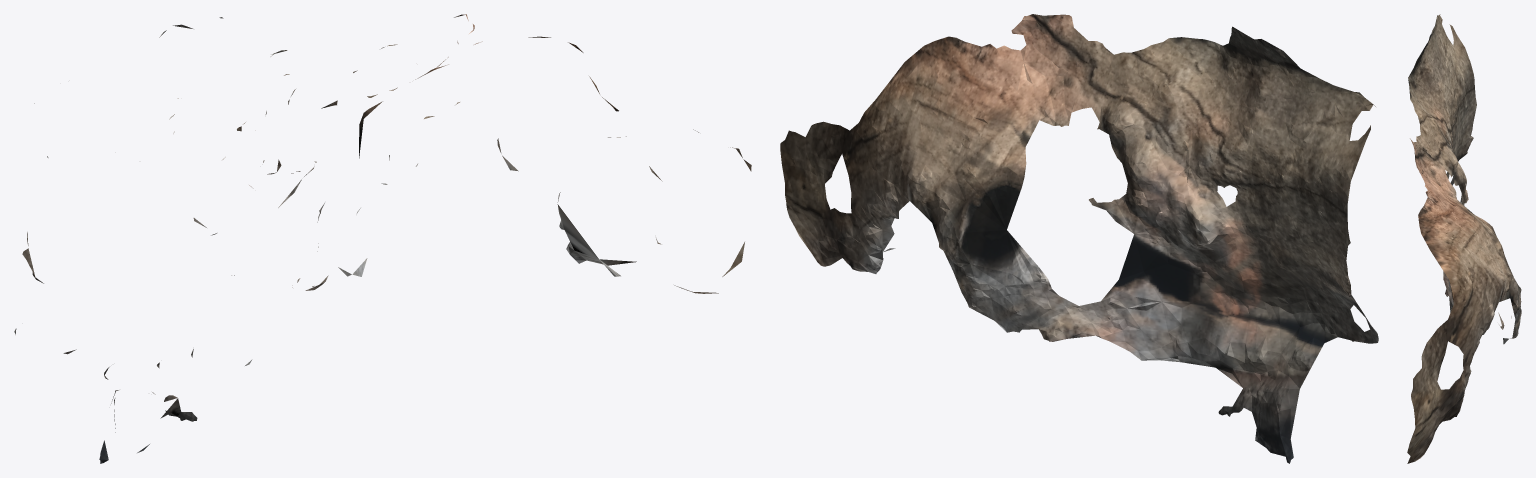
3 views of the same model, side by side, from view 1: azimuth 30°, elevation 25°; view 2: azimuth 150°, elevation 25°; view 3: azimuth 270°, elevation 25° (orthographic). The views are drawn at different scales.
Parts seen in each view (by area): view 1: TexturedMesh; view 2: TexturedMesh; view 3: TexturedMesh.
Part boxes in pixels (x1,y1,x2,y2): TexturedMesh: (14, 14, 751, 463); TexturedMesh: (780, 14, 1378, 463); TexturedMesh: (1407, 14, 1521, 463).
Size of the model in its own units: 2.25 by 1.36 by 0.4673.
Materials: 1 (1 with a texture image).
